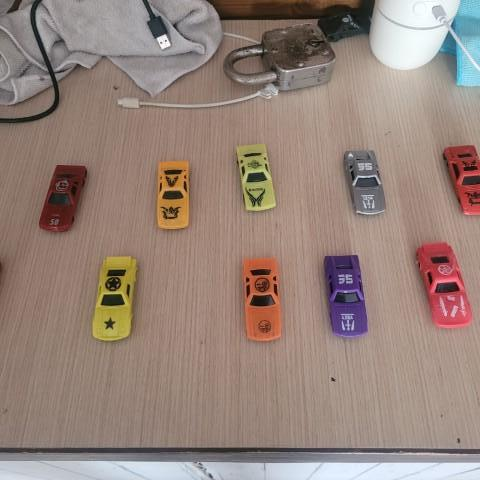car: (412, 237, 471, 329), (321, 249, 372, 340), (235, 253, 286, 341), (92, 255, 139, 346), (341, 147, 389, 222), (39, 158, 88, 231), (233, 141, 279, 213), (155, 157, 195, 229)
